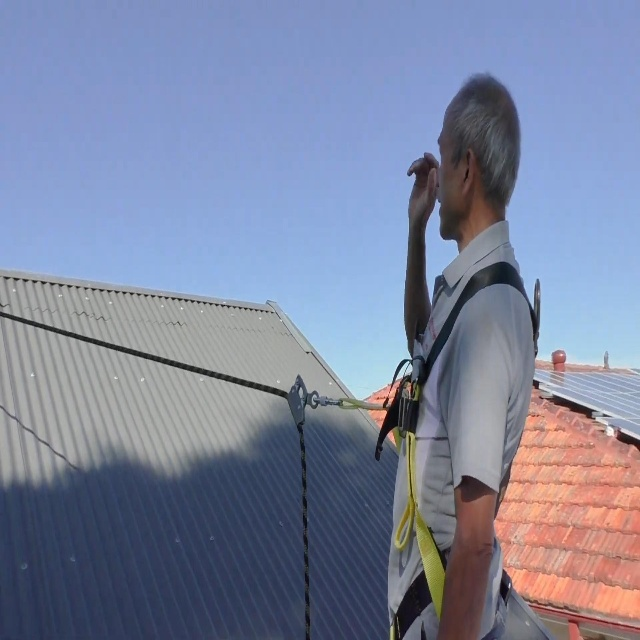Arnes_seguridad: (327, 254, 550, 640)
